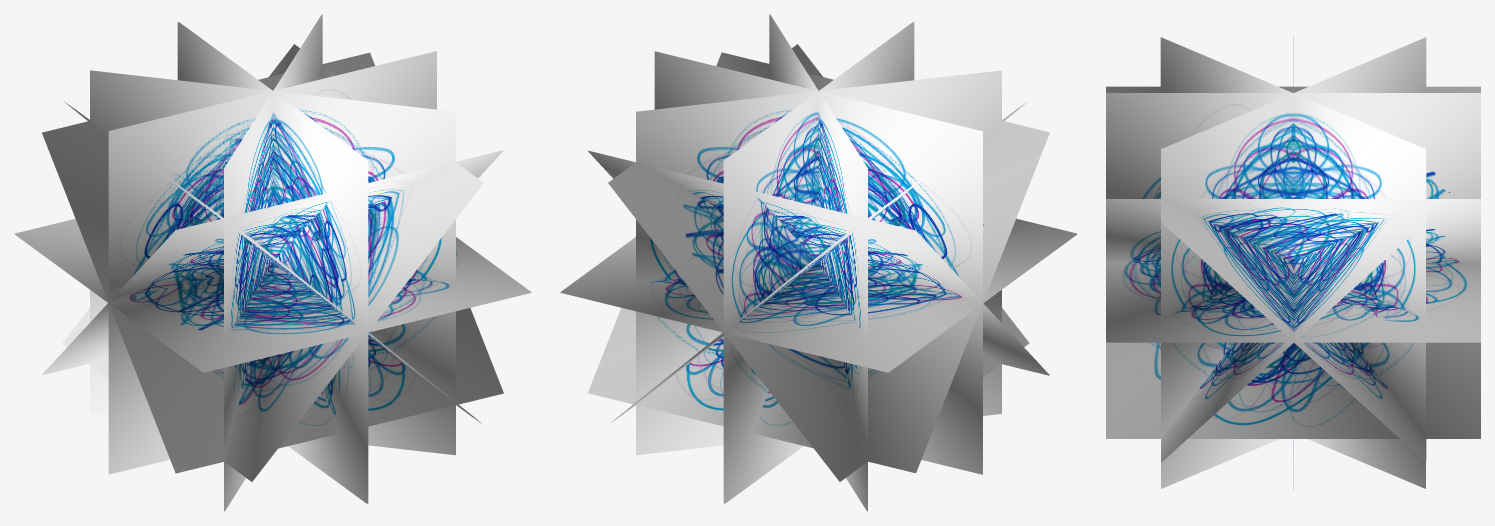
The model's file is Myrskypallo.fbx.
3 views of the same model, side by side, from view 1: azimuth 30°, elevation 25°; view 2: azimuth 150°, elevation 25°; view 3: azimuth 270°, elevation 25° (orthographic).
Parts seen in each view (by area): view 1: Myrskis; view 2: Myrskis; view 3: Myrskis.
Boxes of the visible parts, x1,y1,x2,y2 form: Myrskis: (14,14,531,511); Myrskis: (560,14,1077,511); Myrskis: (1106,36,1480,489).
Bounding box in the file's own units: 140 × 140 × 140.
Materials: 1 (1 with a texture image).
